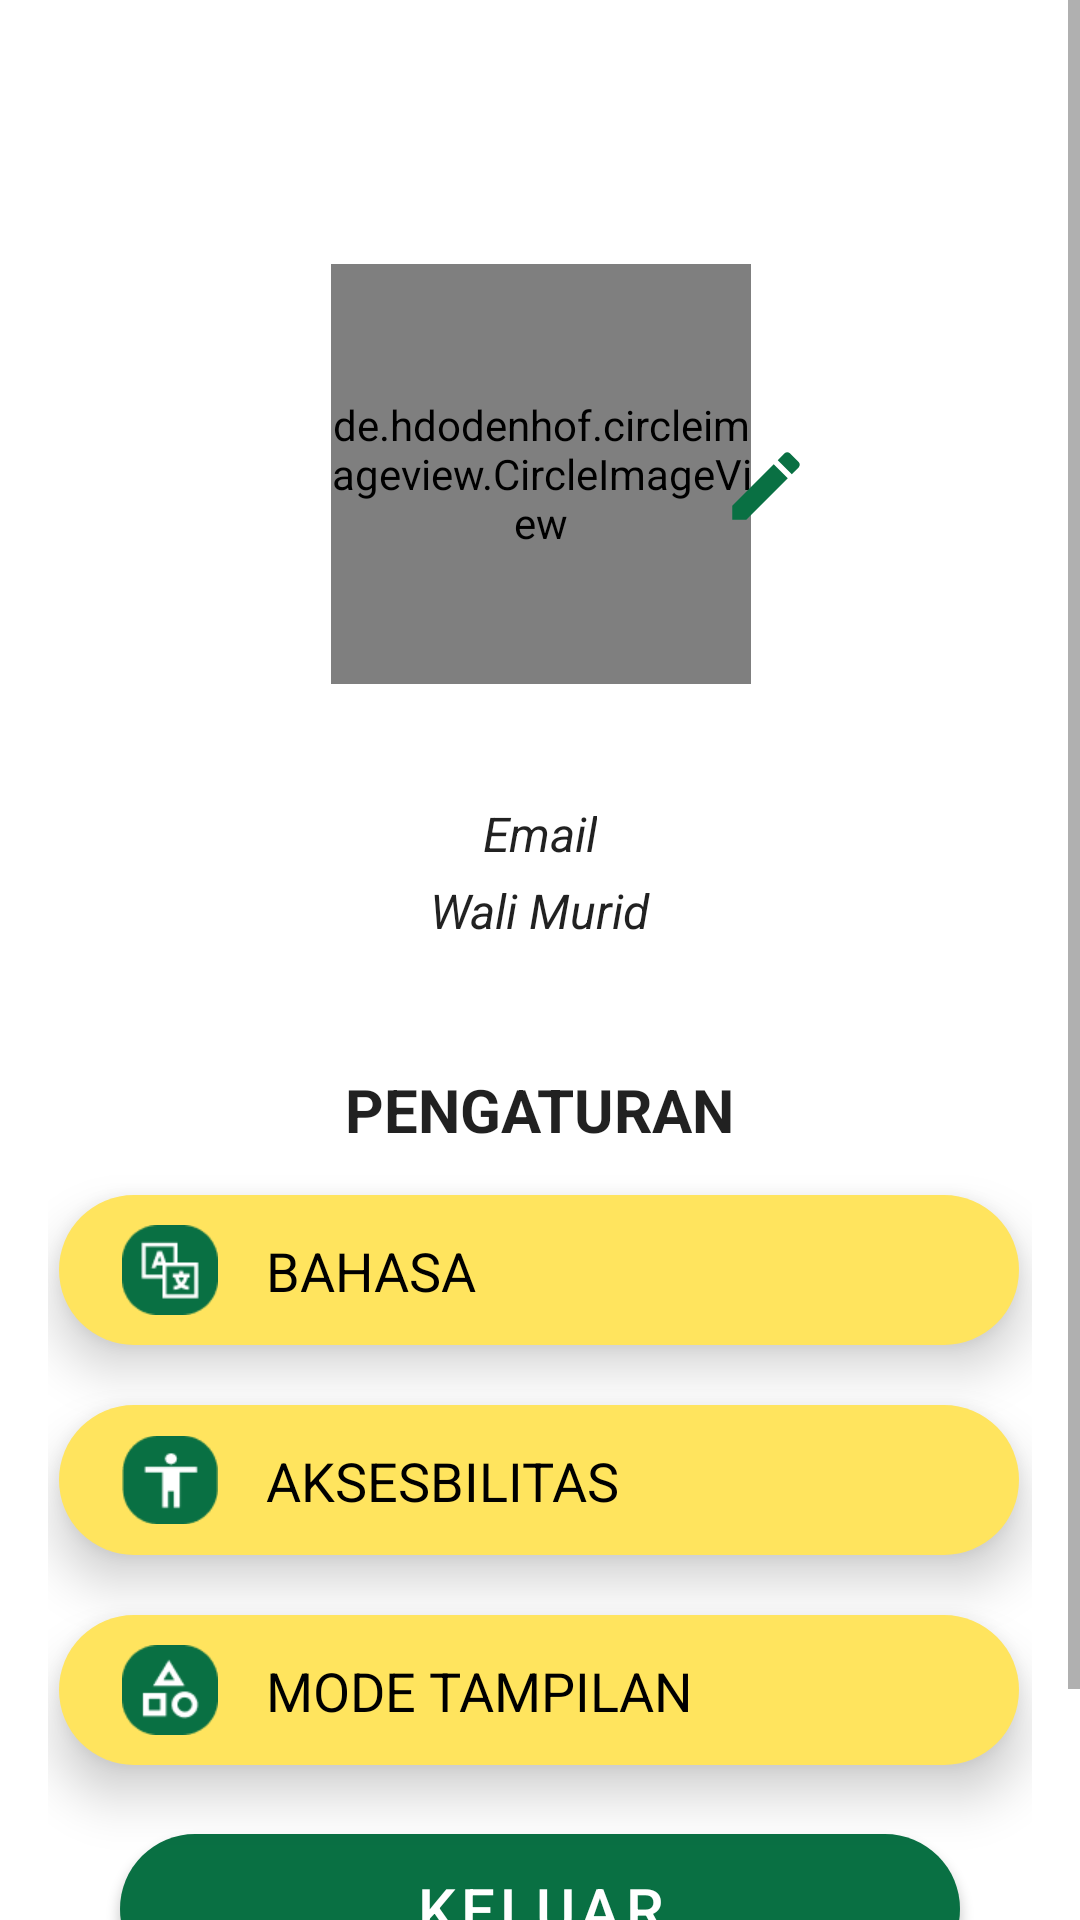

Icon bounding boxes for this 1080px x 1920px phone screenshot, format box(x1, y1, x2, y2):
accessbility: box(122, 1436, 218, 1524)
language: box(122, 1225, 218, 1315)
theme: box(122, 1645, 218, 1735)
